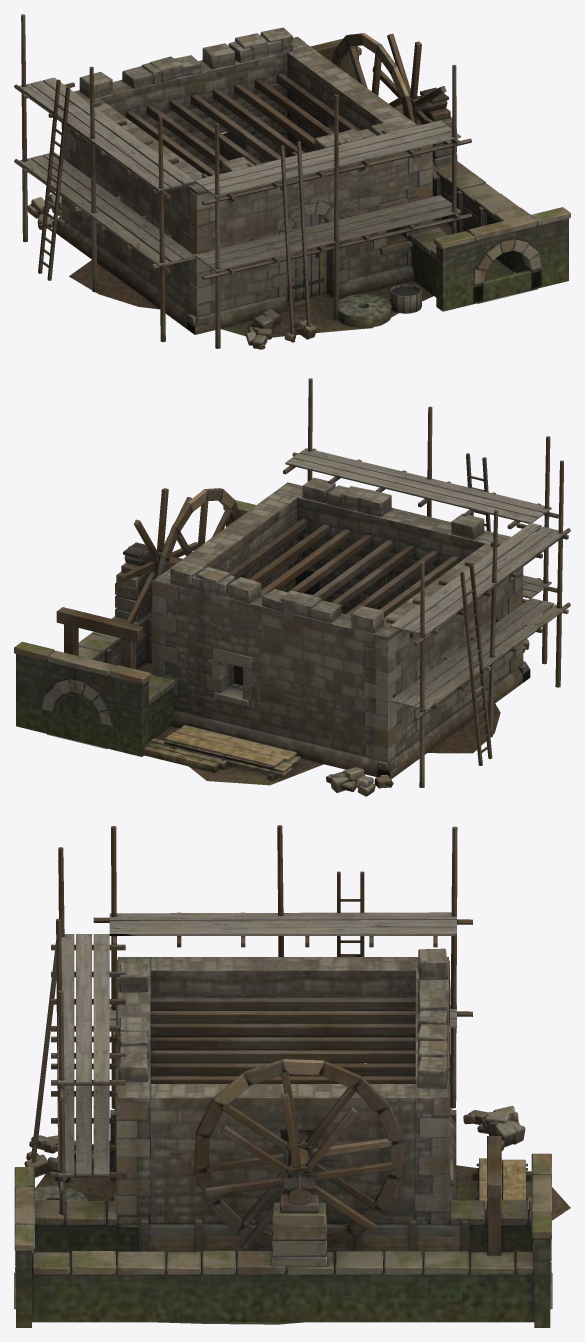
The model's file is mill_build2.glb.
The picture shows the model from 3 angles, top to bottom: view 1: azimuth 30°, elevation 25°; view 2: azimuth 150°, elevation 25°; view 3: azimuth 270°, elevation 25°; orthographic projection. The views are drawn at different scales.
Visible parts, largest first — view 1: mill_build2_LOD0; view 2: mill_build2_LOD0; view 3: mill_build2_LOD0.
Part boxes in pixels (<box>): mill_build2_LOD0: <box>14,14,570,349</box>; mill_build2_LOD0: <box>14,378,570,796</box>; mill_build2_LOD0: <box>14,825,570,1327</box>.
Size of what is drawn, in the model's own units: 10.45 by 5.75 by 10.42.
Materials: 1 (1 with a texture image).
